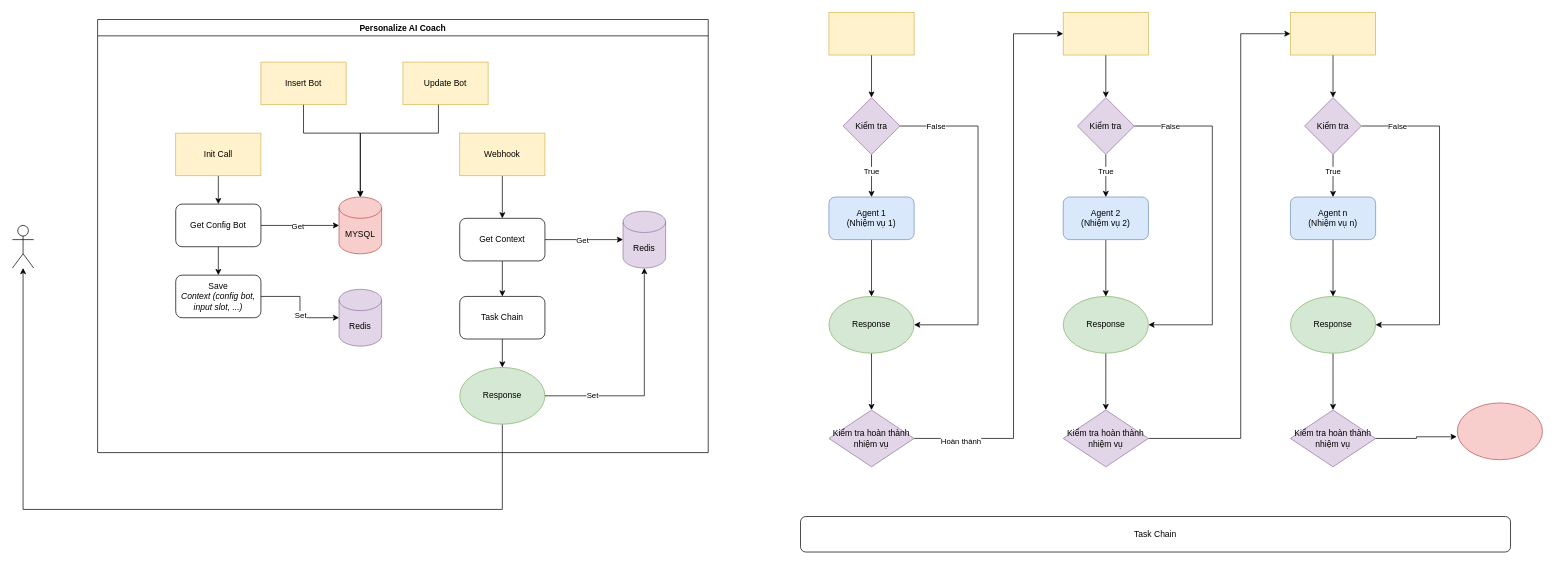
The diagram is 1555 pixels wide and 564 high, and some of its shapes have lost their labels. The shapes that lost their labels are listed below. From the top down, each one's centre as x and y in pixels, then its label:
At [871,33]: "Tool 1".
At [1105,33]: "Tool 2".
At [1333,33]: "Tool n".
At [23,246]: "User".
At [1499,431]: "END".
